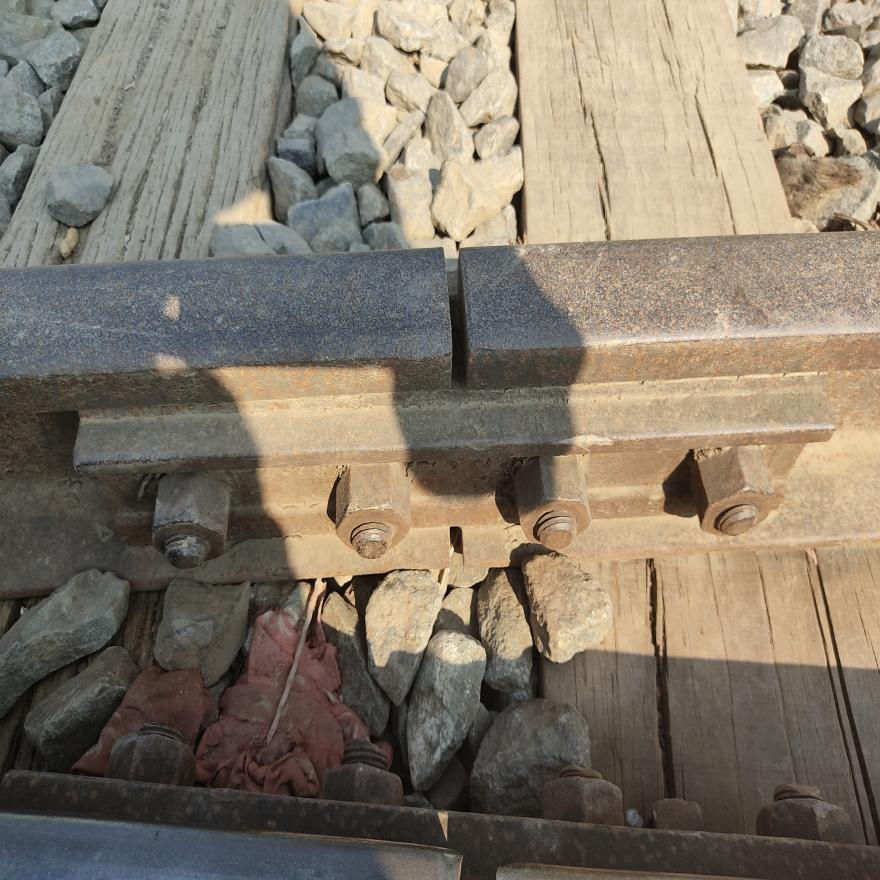railway-gap: (400, 234, 520, 404), (425, 508, 490, 587)
